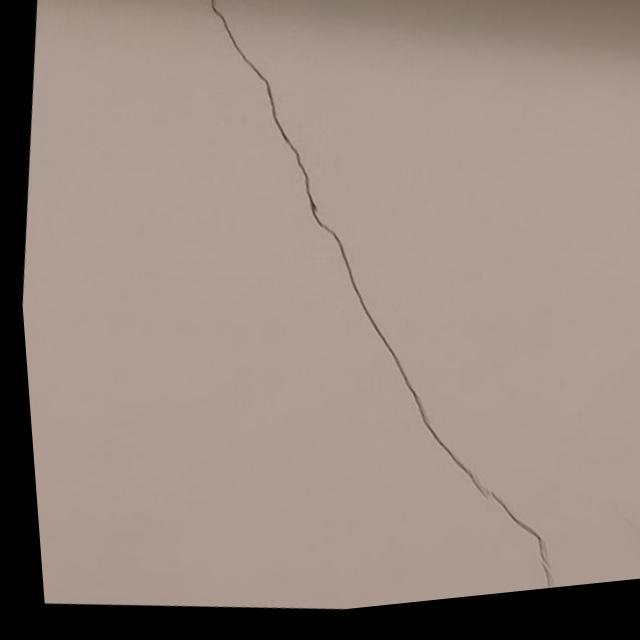Crack: (207, 2, 553, 580)
